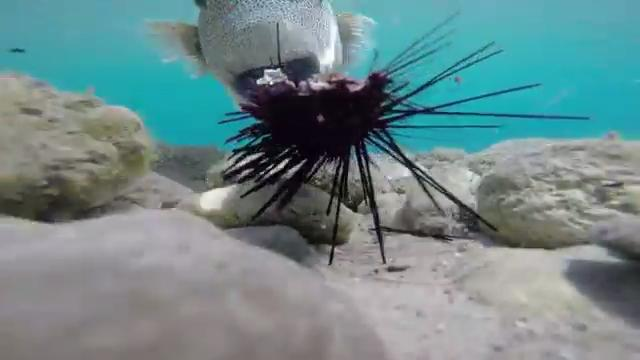urchin: (215, 10, 599, 275)
